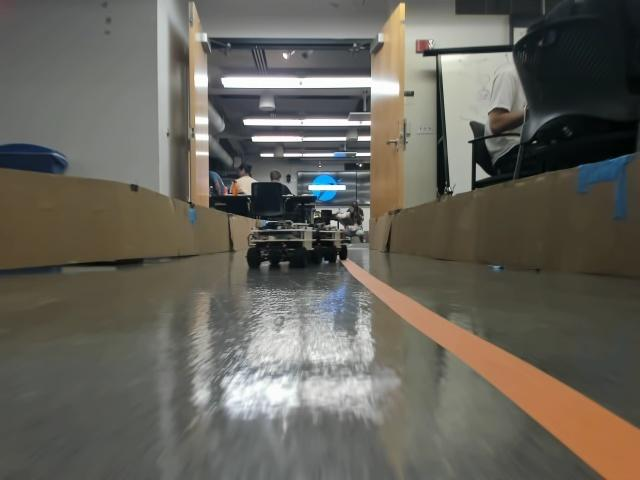Car: (247, 212, 316, 269)
